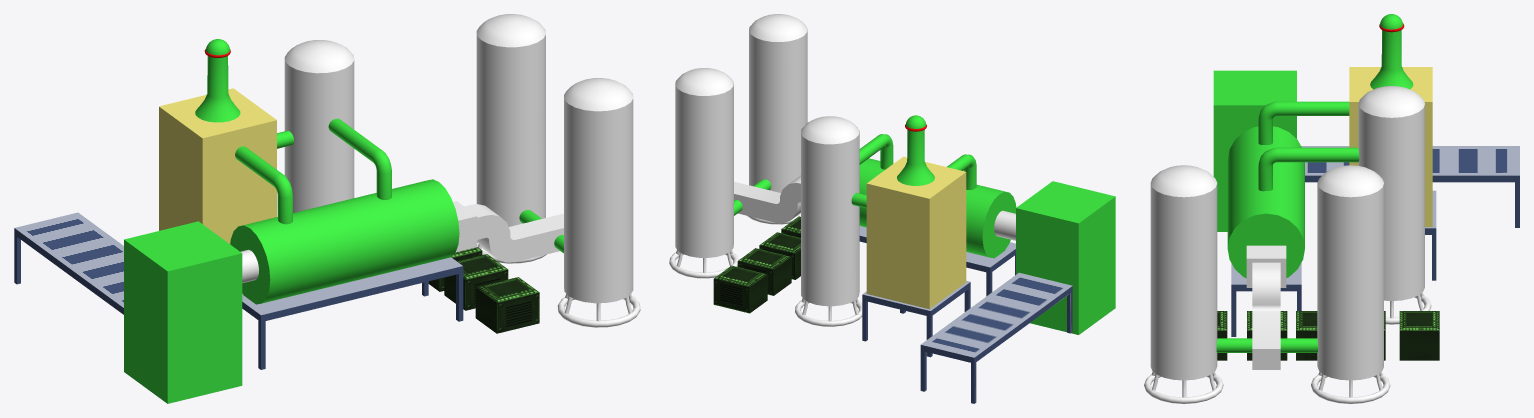
Rendered from BiodegradableFactory_stage3.fbx.
3 renders of one model, left to right at view 1: azimuth 30°, elevation 25°; view 2: azimuth 150°, elevation 25°; view 3: azimuth 270°, elevation 25°, orthographic. The views are drawn at different scales.
Parts seen in each view (by area): view 1: polySurface5; view 2: polySurface5; view 3: polySurface5.
Boxes of the visible parts, x1,y1,x2,y2 form: polySurface5: (14,14,640,403); polySurface5: (669,14,1115,403); polySurface5: (1144,14,1519,403).
Size of the model in its own units: 74.71 by 41.17 by 56.35.
9 materials, 9 textured.
